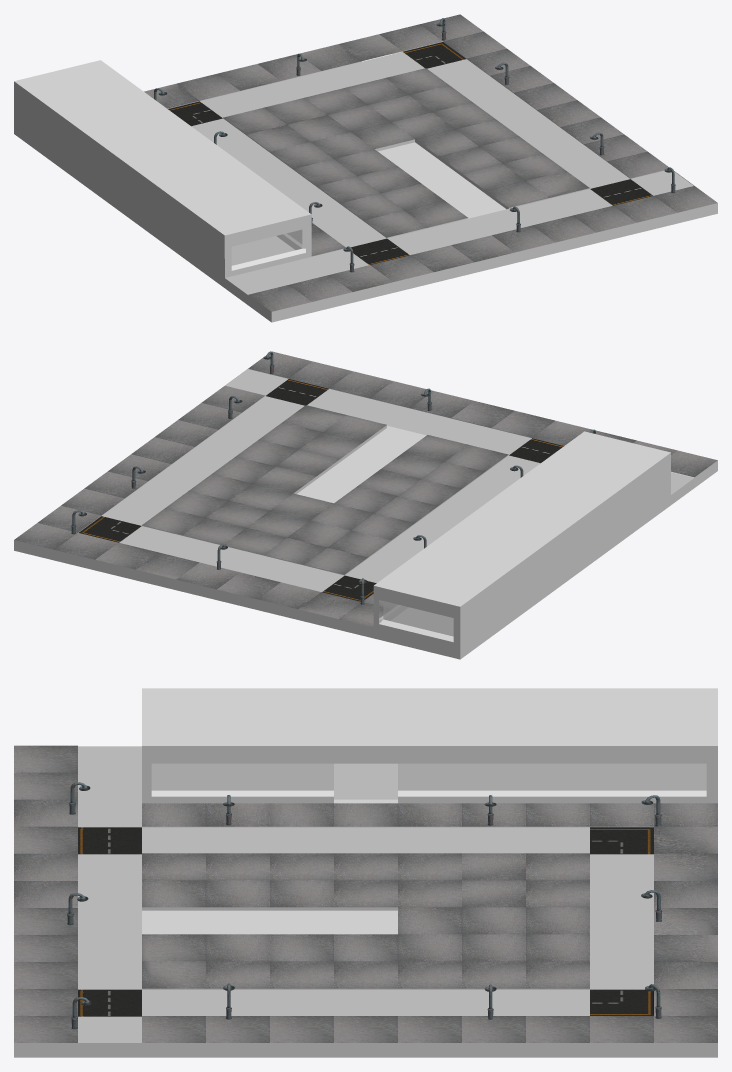
Rendered from area1base_ver25.fbx.
3 renders of one model, top to bottom at view 1: azimuth 30°, elevation 25°; view 2: azimuth 150°, elevation 25°; view 3: azimuth 270°, elevation 25°, orthographic. The views are drawn at different scales.
Parts seen in each view (by area): view 1: Base; view 2: Base; view 3: Base.
Part boxes in pixels (left/top/right/bottom): Base: left=14, top=14, right=717, bottom=322; Base: left=14, top=351, right=717, bottom=659; Base: left=14, top=688, right=717, bottom=1057.
Size of the model in its own units: 20000 by 2260 by 20001.
